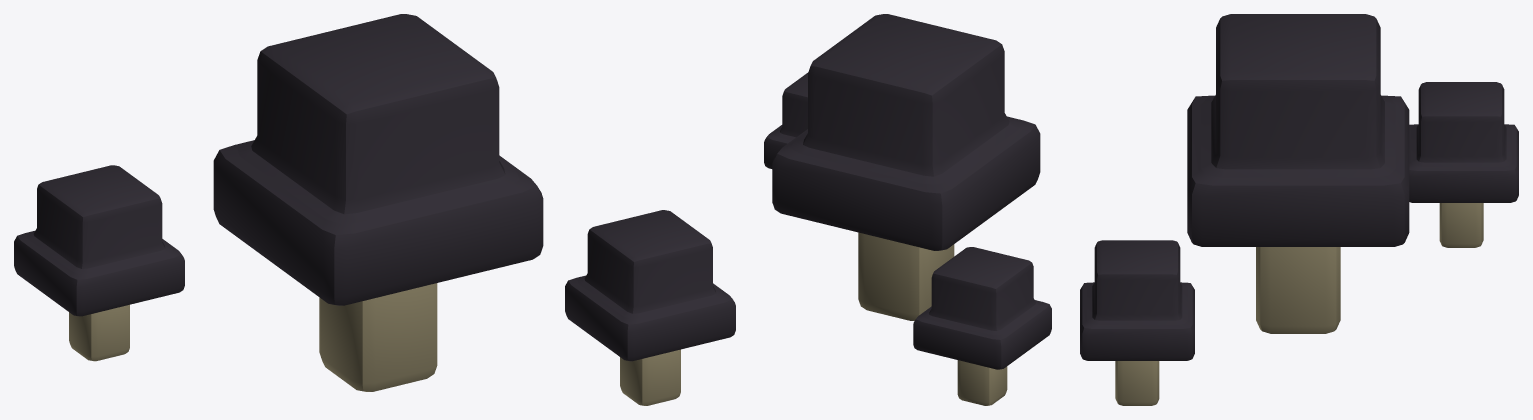
Rendered from Mushroom.glb.
3 views of the same model, side by side, from view 1: azimuth 30°, elevation 25°; view 2: azimuth 150°, elevation 25°; view 3: azimuth 270°, elevation 25° (orthographic). The views are drawn at different scales.
Visible parts, largest first — view 1: Mushroom; view 2: Mushroom; view 3: Mushroom.
Part boxes in pixels (box(x1,y1,x2,y2)): Mushroom: box(14, 14, 735, 405); Mushroom: box(764, 14, 1051, 405); Mushroom: box(1080, 14, 1518, 405).
Size of the model in its own units: 1.8 by 1.13 by 1.62.
1 material, 1 textured.
